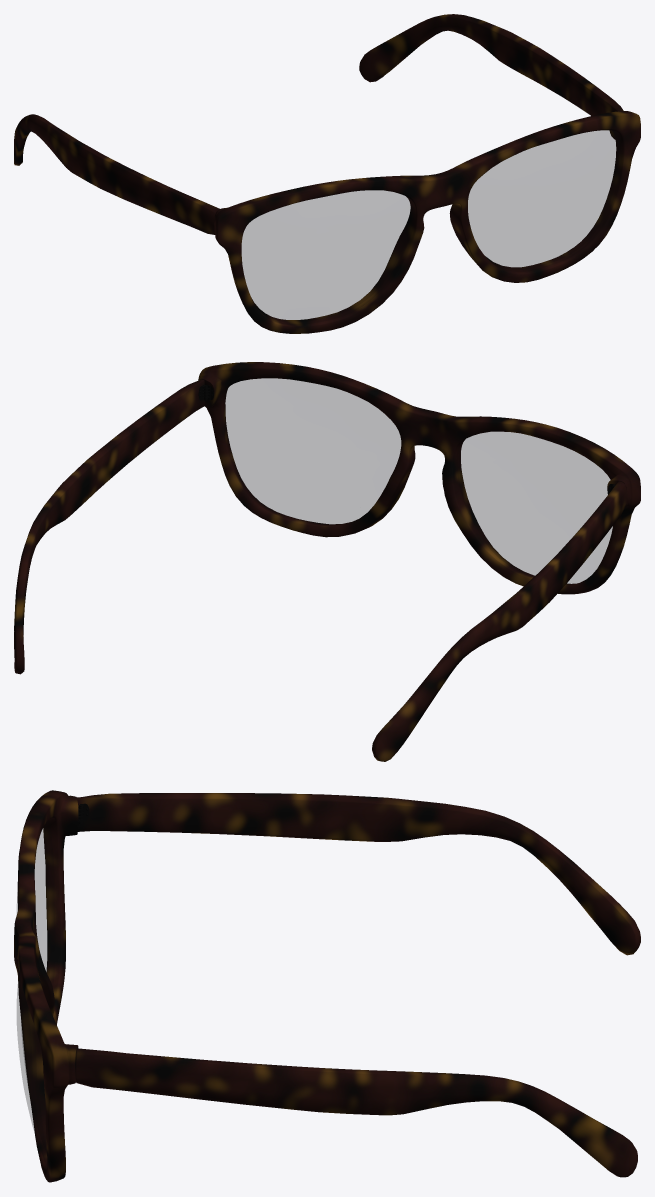
Rendered from Glass_model.fbx.
3 views of the same model, one above another, from view 1: azimuth 30°, elevation 25°; view 2: azimuth 150°, elevation 25°; view 3: azimuth 270°, elevation 25° (orthographic). The views are drawn at different scales.
Visible parts, largest first — view 1: Glass, Frame_Tortoise; view 2: Glass, Frame_Tortoise; view 3: Frame_Tortoise, Glass.
Part boxes in pixels (x1,y1,x2,y2): Glass: (242,130,621,324); Frame_Tortoise: (14,14,640,333); Glass: (225,378,612,583); Frame_Tortoise: (14,362,640,761); Frame_Tortoise: (14,790,640,1182); Glass: (17,821,54,1164).
Bounding box in the file's own units: 0.7059 × 0.2299 × 0.671.
Materials: 3 (2 with a texture image).
